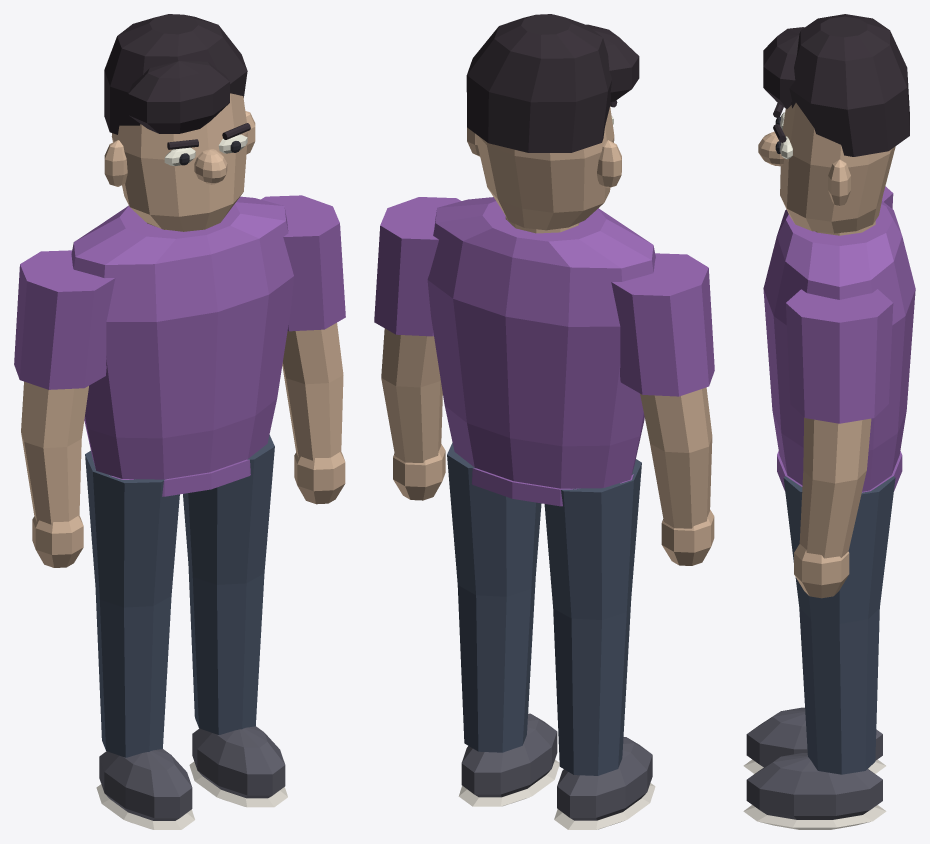
The model's file is rival.glb.
3 renders of one model, left to right at view 1: azimuth 30°, elevation 25°; view 2: azimuth 150°, elevation 25°; view 3: azimuth 270°, elevation 25°, orthographic. The views are drawn at different scales.
Parts seen in each view (by area): view 1: Torso, Leg, Leg.001, Sleeve, Face, Hair, Arm, Sleeve.001, Arm.001, Fringe, Shoe.001, Shoe (+7 smaller); view 2: Torso, Leg, Leg.001, Hair, Sleeve, Face, Arm, Sleeve.001, Arm.001, Shoe.001, Shoe, Hand (+6 smaller); view 3: Torso, Leg.001, Hair, Sleeve.001, Face, Arm.001, Shoe.001, Shoe, Fringe, Hand.001, Sole.001, Ear.001 (+2 smaller).
Boxes of the visible parts, x1,y1,x2,y2 form: Torso: (71,196,293,479); Leg: (85,450,179,757); Leg.001: (183,435,274,734); Sleeve: (14,250,115,389); Face: (111,93,247,231); Hair: (104,14,247,134); Arm: (21,381,88,524); Sleeve.001: (261,195,345,331); Arm.001: (282,323,343,460); Fringe: (128,61,229,133); Shoe.001: (192,726,285,798); Shoe: (99,749,192,820); Torso: (427,197,655,488); Leg: (544,459,641,775); Leg.001: (447,442,541,752); Hair: (466,14,611,152); Sleeve: (611,253,714,396); Face: (475,106,614,230); Arm: (640,387,712,528); Sleeve.001: (374,197,461,336); Arm.001: (381,328,442,462); Shoe.001: (461,713,557,797); Shoe: (557,737,652,820); Hand: (661,509,714,565); Torso: (763,201,915,491); Leg.001: (783,476,895,774); Hair: (789,14,909,156); Sleeve.001: (786,289,893,423); Face: (780,103,895,233); Arm.001: (799,417,871,558); Shoe.001: (746,753,882,819); Shoe: (746,707,882,767); Fringe: (763,27,804,108); Hand.001: (794,544,849,598); Sole.001: (743,805,886,829); Ear.001: (828,159,850,206).
Bounding box in the file's own units: 0.828 × 1.9 × 0.385.
